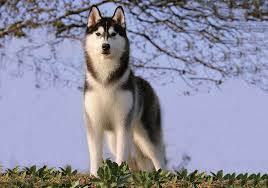Bulldog: (59, 6, 190, 184)
